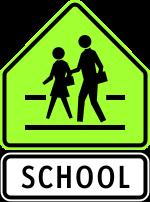School Ahead: (9, 12, 140, 193)
